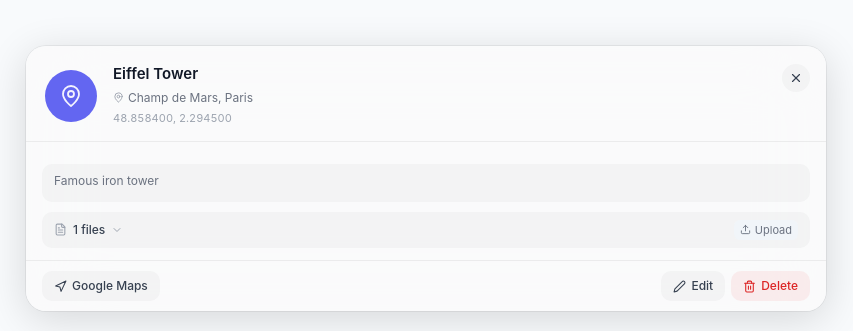
Test case: PlaceInspector › FE-PLANNER-INSPECTOR-035: file size displayed in MB for files >= 1MB
Click the button "1 files".
click(89, 229)  # box 54,221 -> 728,239
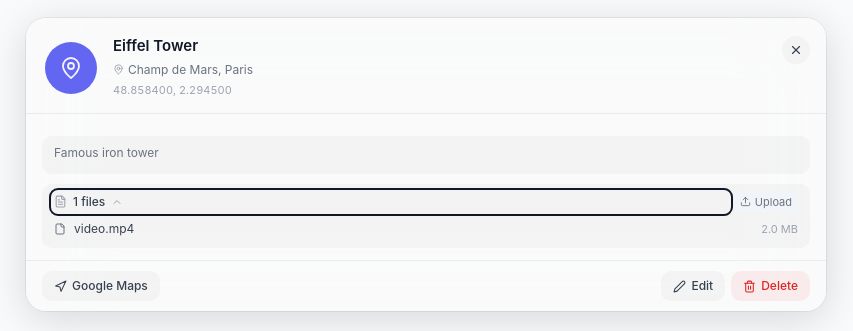
Expected: the text "2.0 MB" is shown, 761,221 -> 798,237
